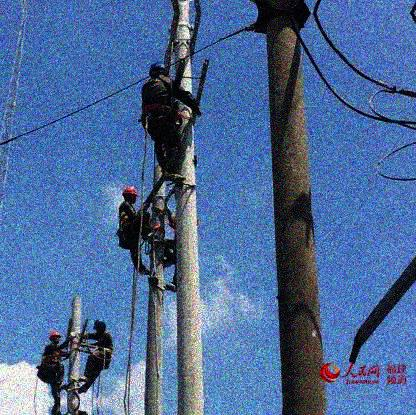helmet: (148, 61, 170, 81), (123, 184, 141, 204), (92, 318, 107, 337), (48, 331, 63, 347)
